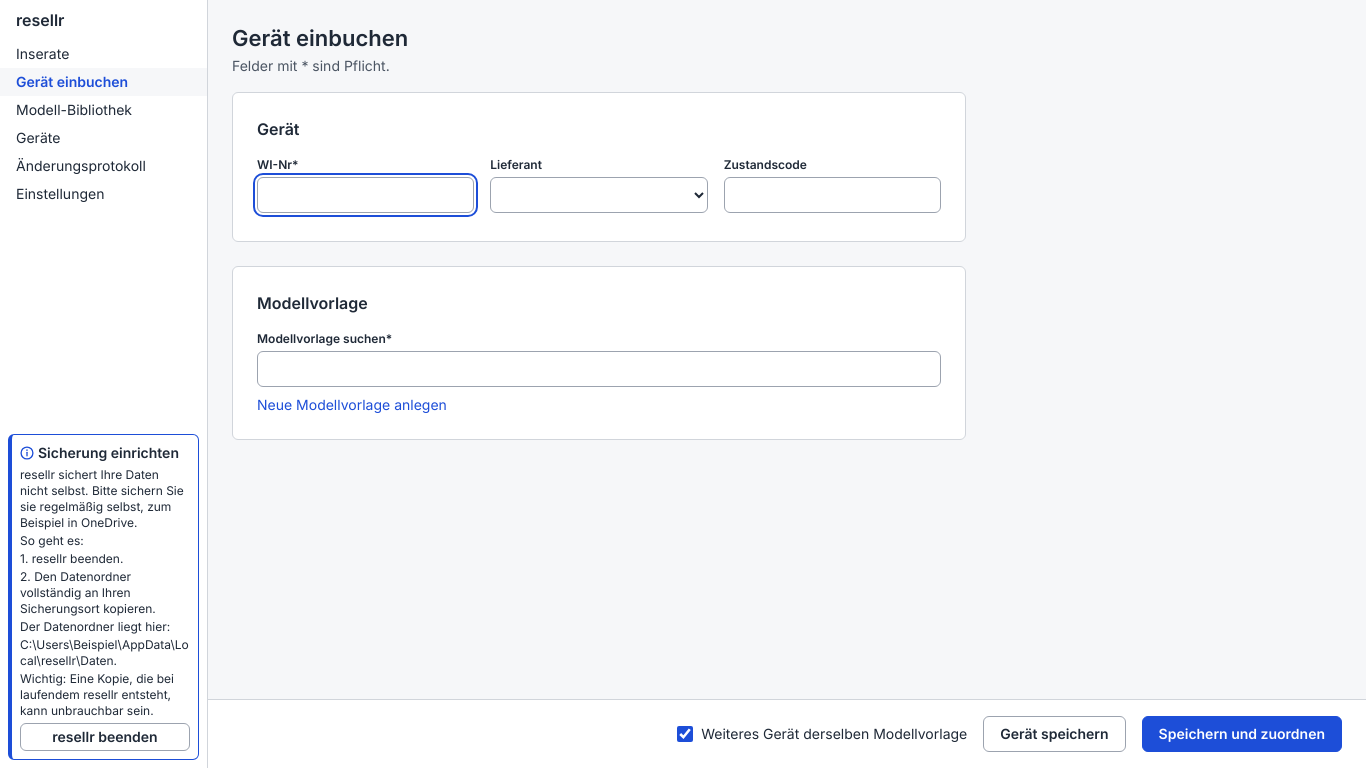
Test case: UI-003 prefill and review flags (CU-132, REQ-013; Technical Specification 2.5) › UI-003.default AC-REQ-013-01 DER-55-02 prefills battery and battery capacity of MV-A with "zu prüfen" and "Bestätigen", the processor without
The width and height of the screenshot is (1366, 768).
Expected: the form named "Gerät einbuchen" is shown, x1=232 y1=92 x2=966 y2=440
Type "T14" into the search field labelled "Modellvorlage suchen*" at (599, 369), box x1=257 y1=351 x2=941 y2=387
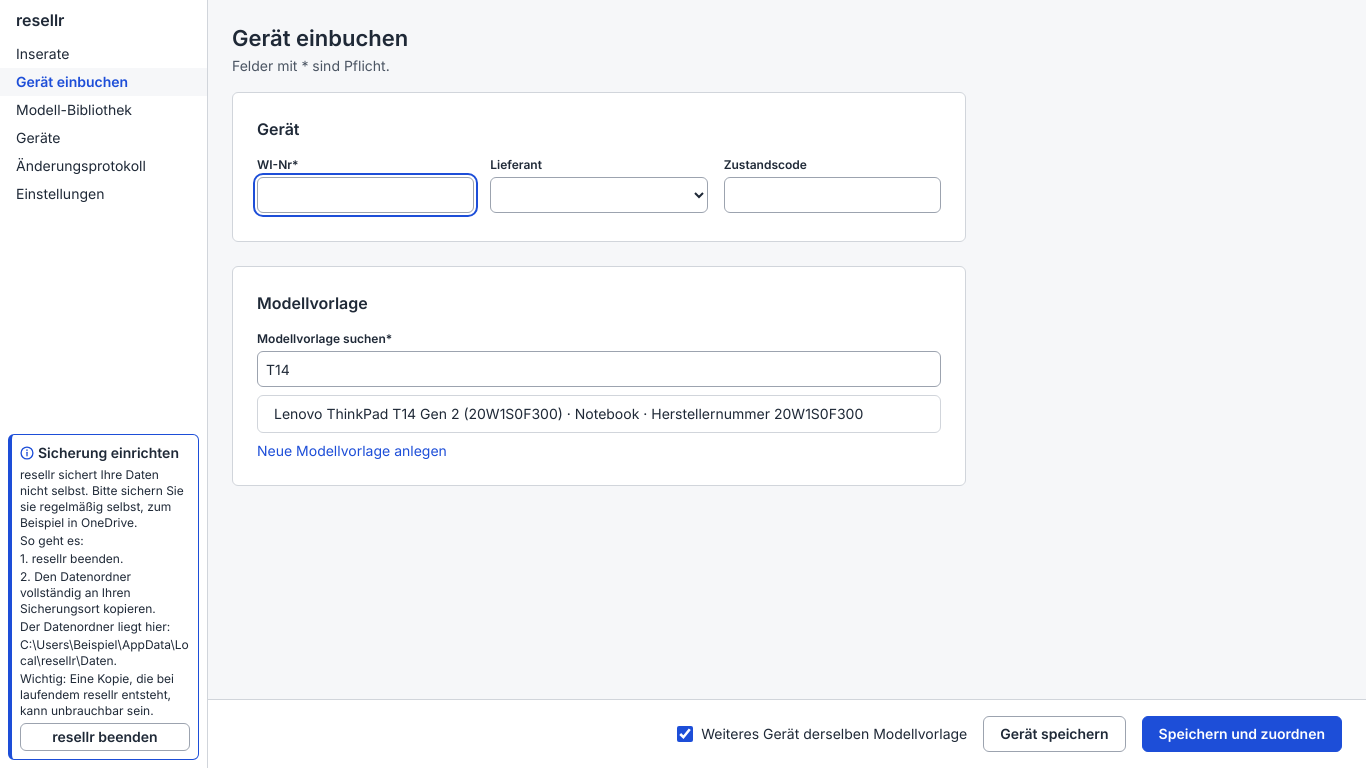
Click the button "Lenovo ThinkPad T14 Gen 2 (20W1S0F300) · Notebook · Herstellernummer 20W1S0F300" at (599, 414), box x1=258 y1=396 x2=940 y2=432
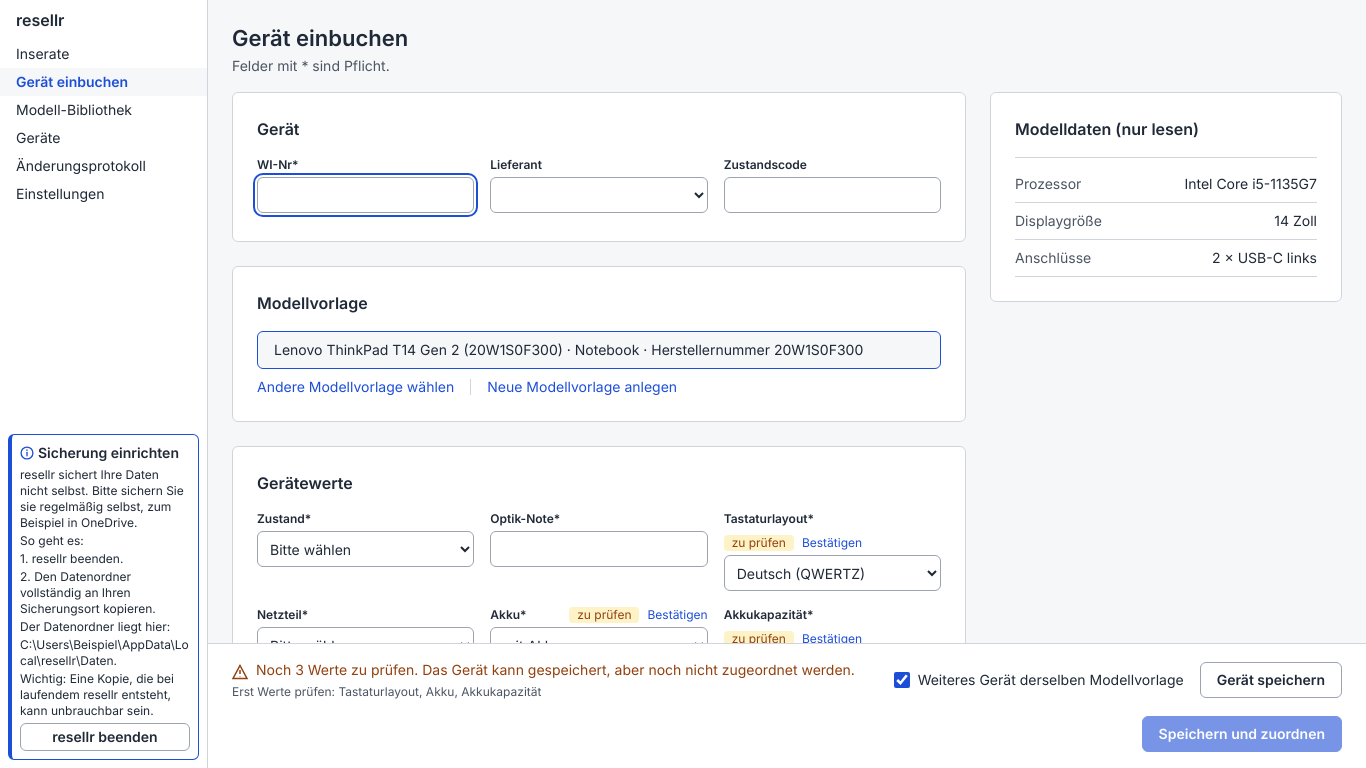
Now the text "zu prüfen" is shown 3 times, box x1=724 y1=535 x2=794 y2=551; x1=569 y1=607 x2=639 y2=623; x1=724 y1=631 x2=794 y2=643
Now the button with aria-label "Tastaturlayout bestätigen" reads "Bestätigen", box x1=802 y1=535 x2=862 y2=551
Now the button with aria-label "Akku bestätigen" reads "Bestätigen", box x1=648 y1=607 x2=708 y2=623
